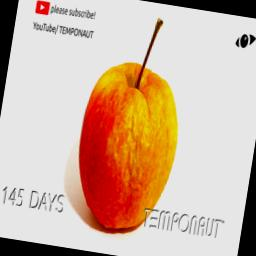Apple Overripe: (65, 0, 200, 241)
